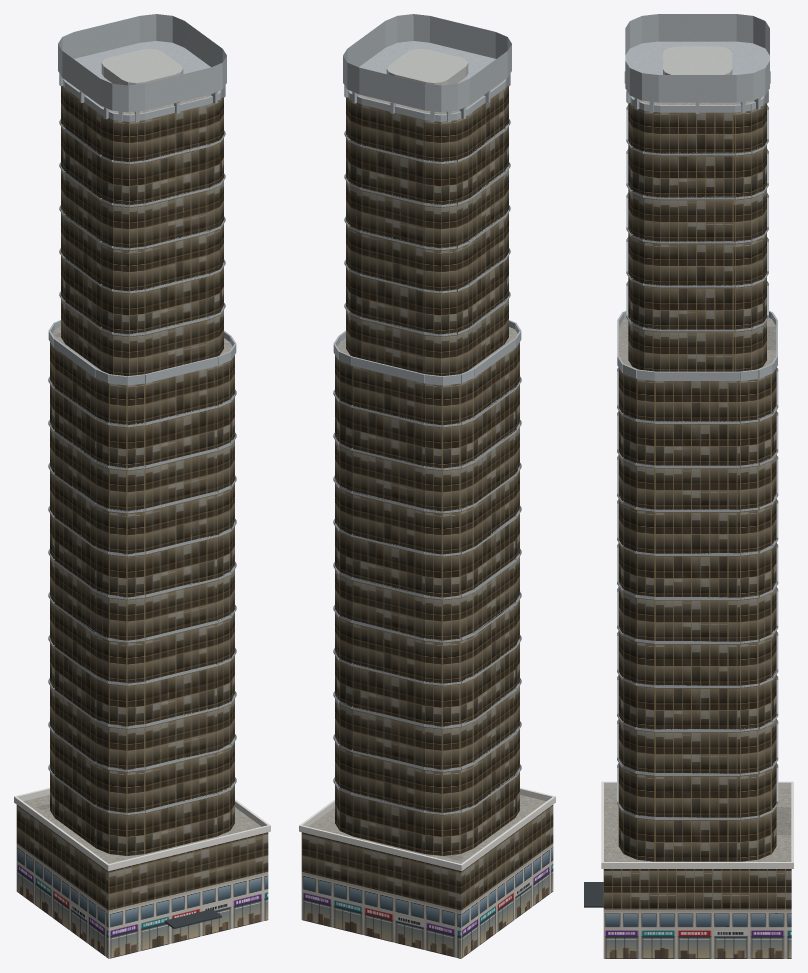
The model's file is OW_CaoOc_VP_BoTron_152.fbx.
3 views of the same model, side by side, from view 1: azimuth 30°, elevation 25°; view 2: azimuth 150°, elevation 25°; view 3: azimuth 270°, elevation 25° (orthographic). The views are drawn at different scales.
Parts seen in each view (by area): view 1: OW_CaoOc_VP_BoTron_152_LOD0; view 2: OW_CaoOc_VP_BoTron_152_LOD0; view 3: OW_CaoOc_VP_BoTron_152_LOD0.
Boxes of the visible parts, x1,y1,x2,y2 form: OW_CaoOc_VP_BoTron_152_LOD0: (14,14,270,958); OW_CaoOc_VP_BoTron_152_LOD0: (299,14,555,958); OW_CaoOc_VP_BoTron_152_LOD0: (584,14,793,958).
Size of what is drawn, in the model's own units: 31.7 by 159 by 34.55.
